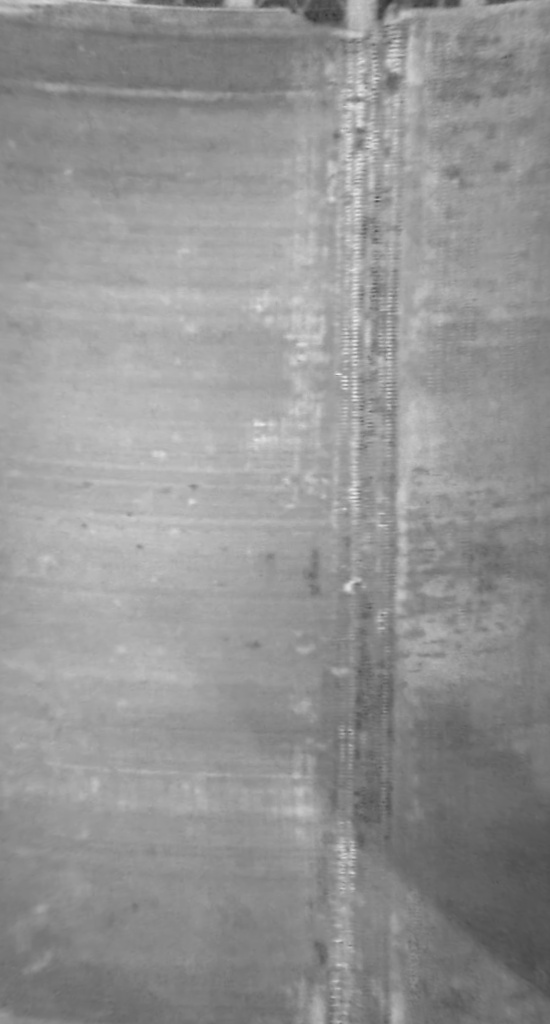splice: (304, 1, 401, 1022)
